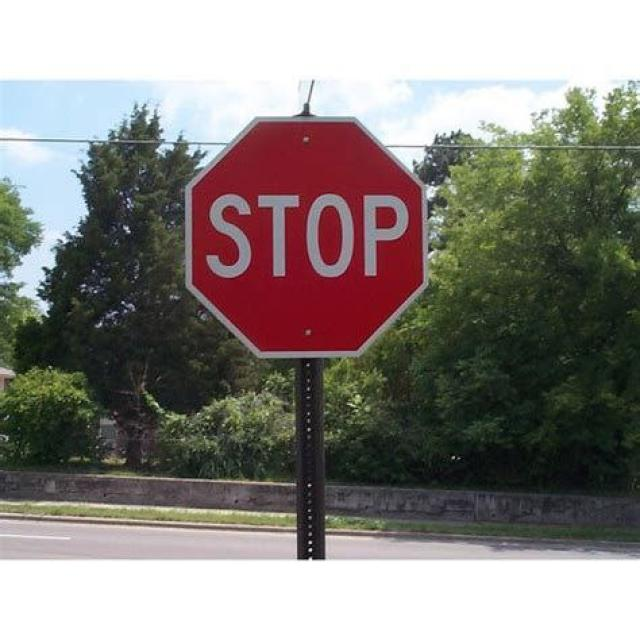stop: (187, 113, 431, 371)
